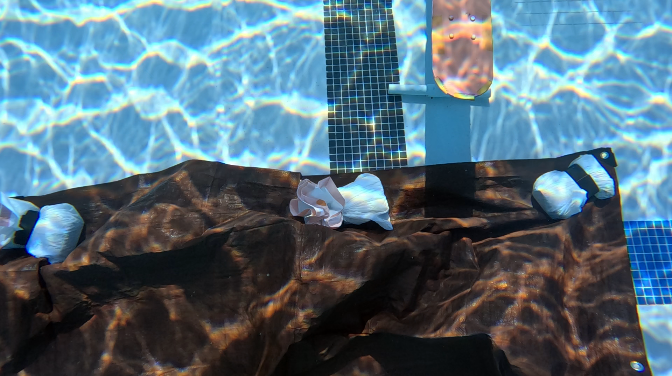sandbag: (0, 147, 648, 372)
